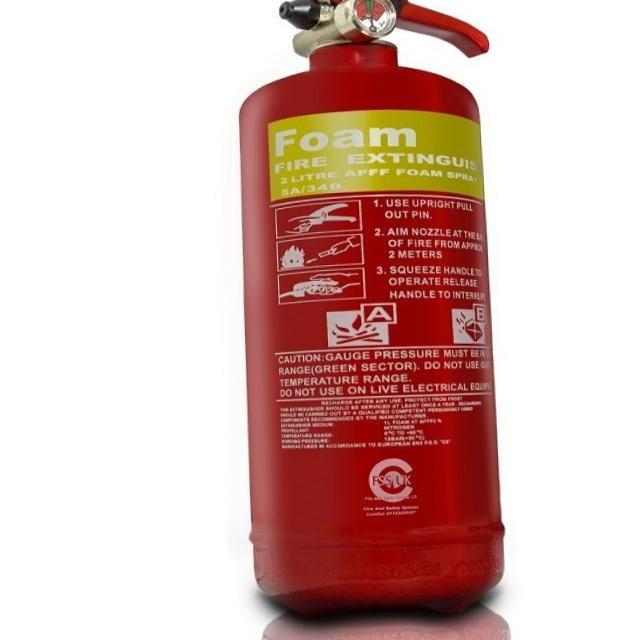fire_extinguisher: (230, 0, 516, 621)
